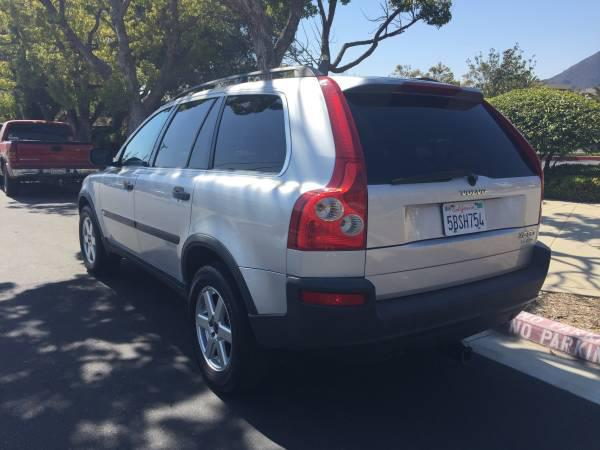volvo: (49, 68, 594, 405)
